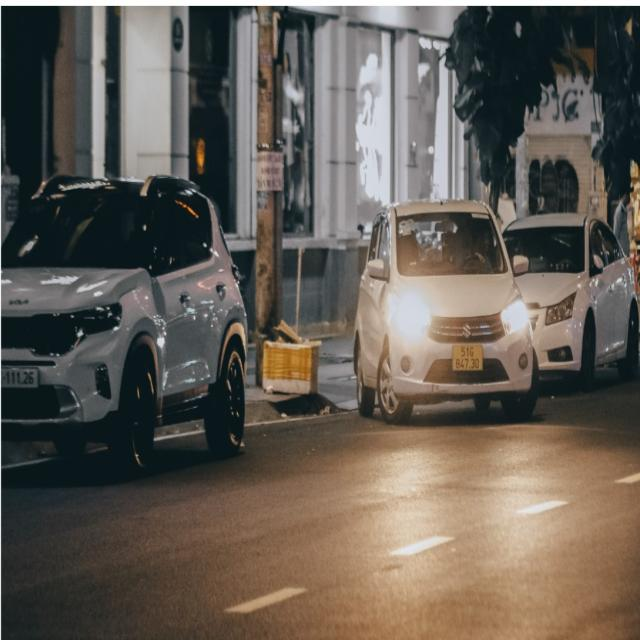car: (0, 167, 249, 471), (354, 198, 540, 424), (504, 216, 640, 390)
